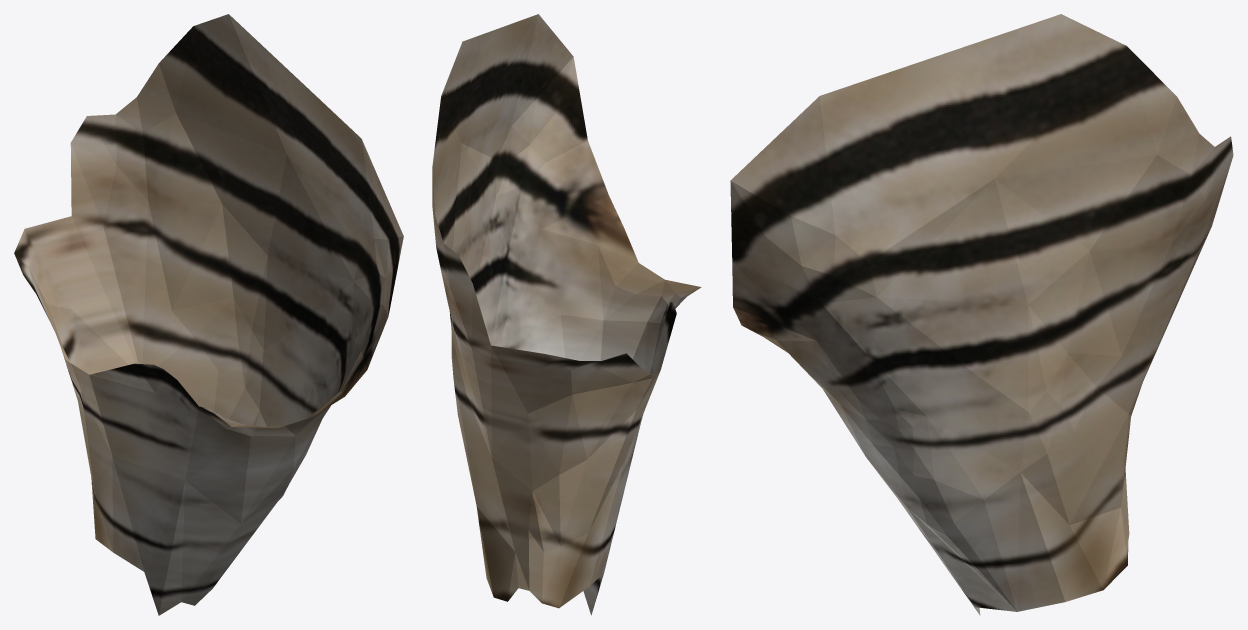
Rendered from Zpatati.obj.
3 views of the same model, side by side, from view 1: azimuth 30°, elevation 25°; view 2: azimuth 150°, elevation 25°; view 3: azimuth 270°, elevation 25° (orthographic). The views are drawn at different scales.
Parts seen in each view (by area): view 1: PTI; view 2: PTI; view 3: PTI.
Boxes of the visible parts, box(x1,y1,x2,y2) form: PTI: box(14, 14, 403, 615); PTI: box(432, 14, 701, 615); PTI: box(730, 14, 1233, 615).
Size of the model in its own units: 0.2868 by 0.6701 by 0.4698.
1 material, 1 textured.
